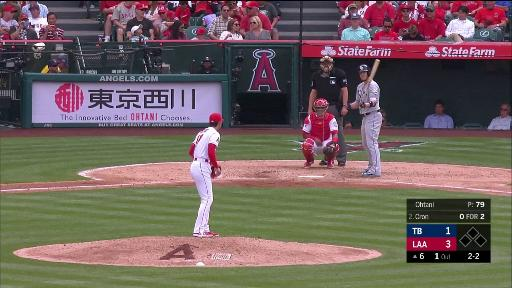pitcher: (188, 112, 224, 238)
